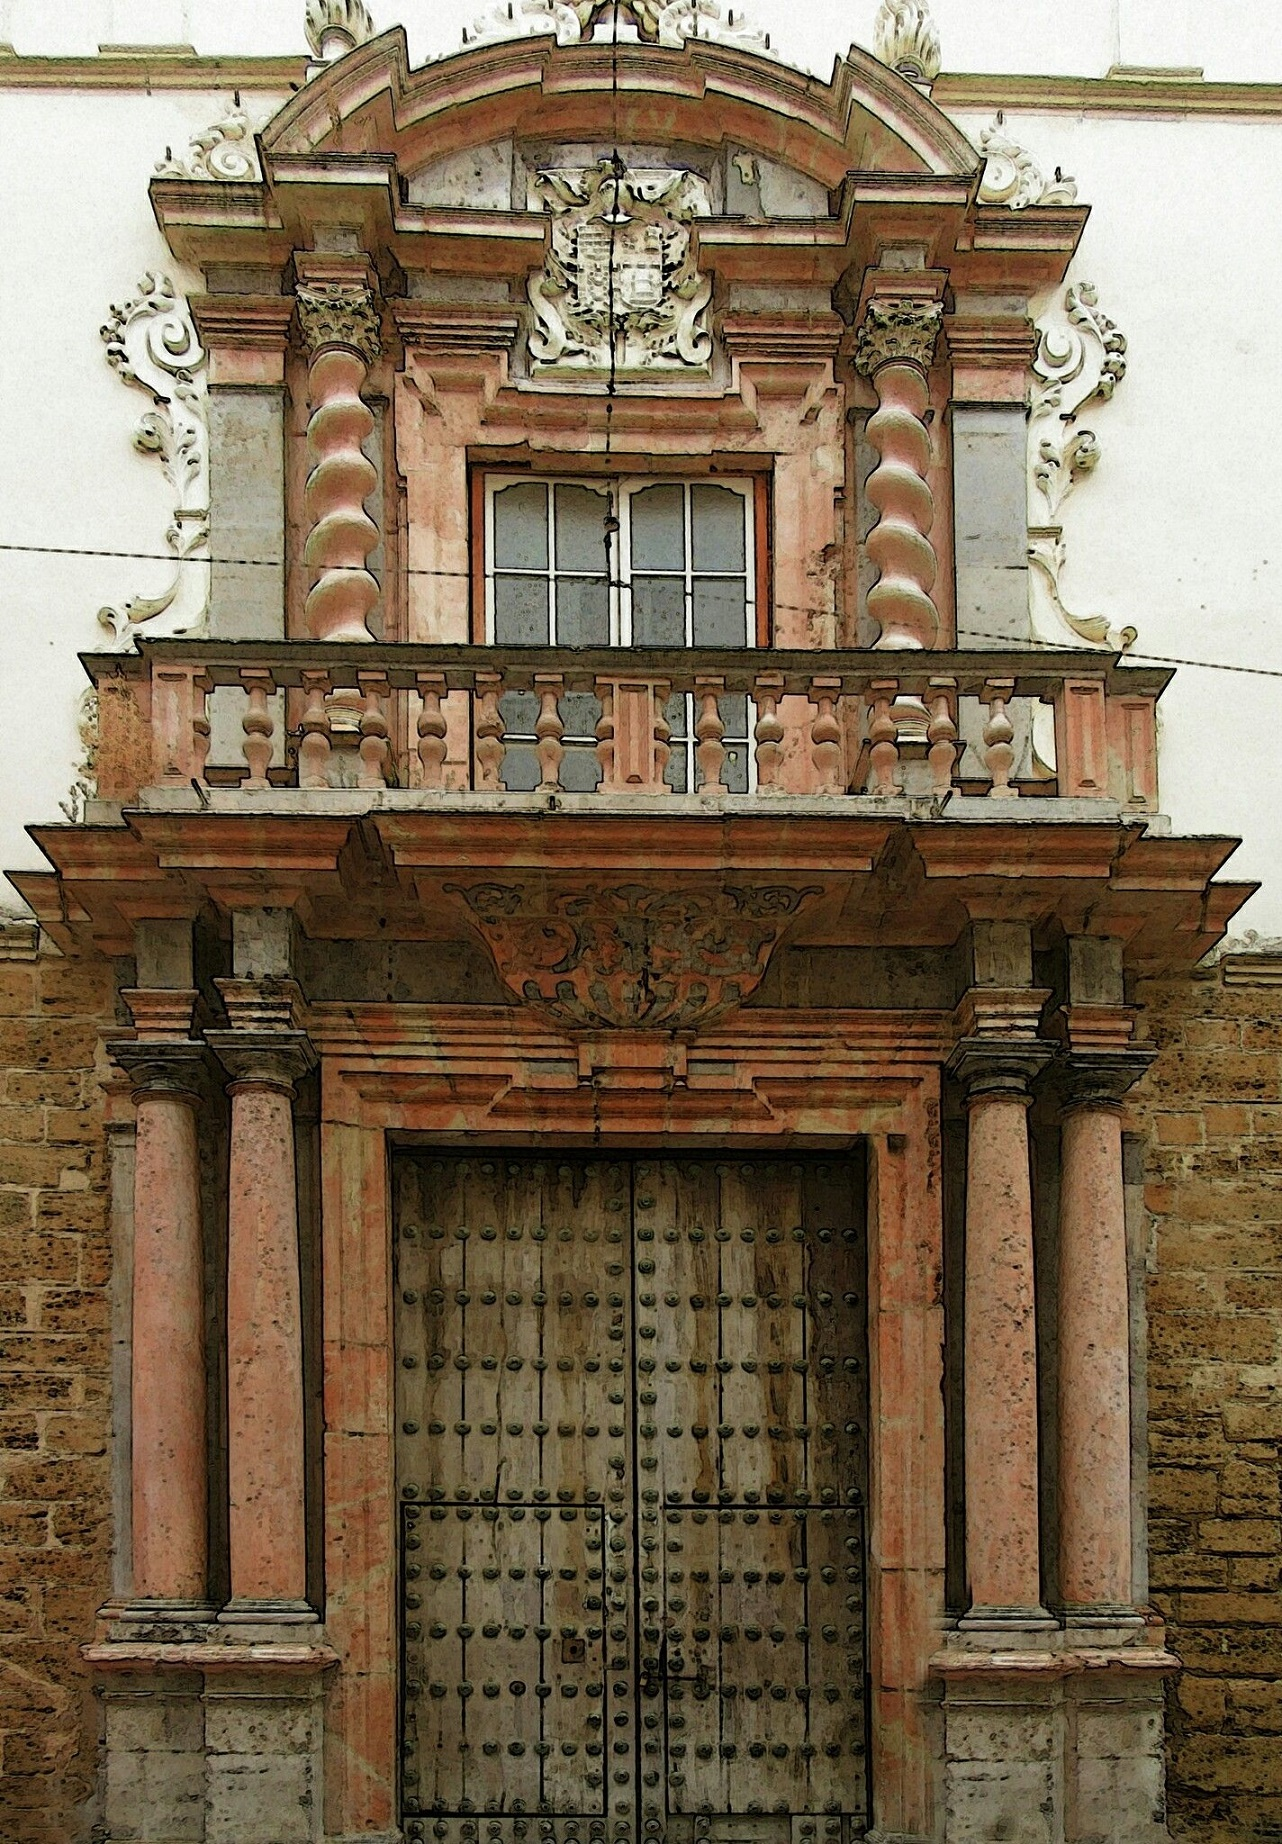columna-salomonica: (852, 360, 951, 647), (298, 333, 381, 638)
fronton-partido: (254, 17, 999, 256)
vano-adintelado: (310, 992, 951, 1844)
